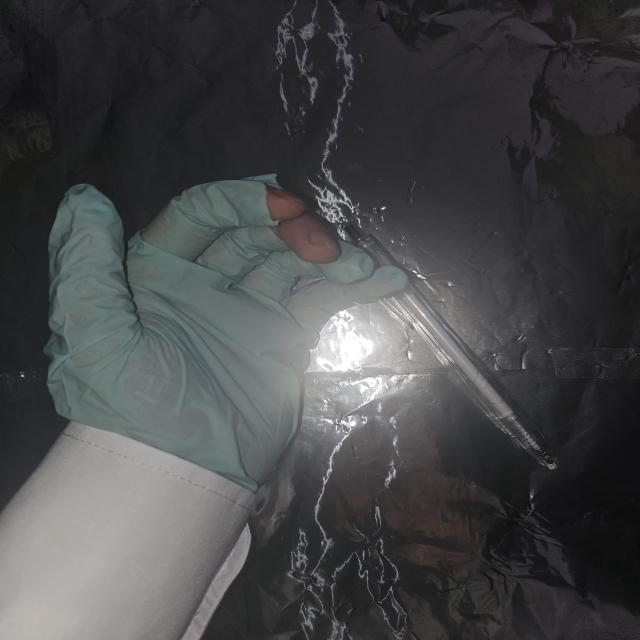gloves_damaged: (42, 170, 412, 492)
